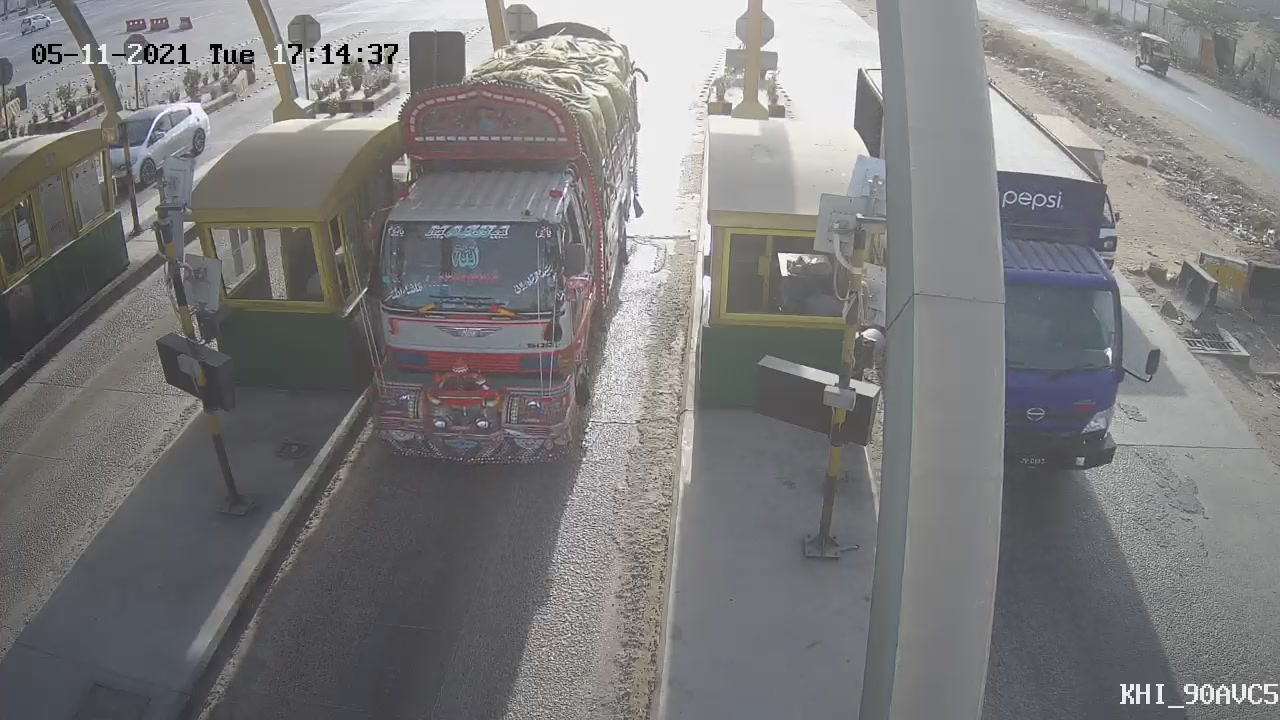F5: (314, 7, 674, 494)
